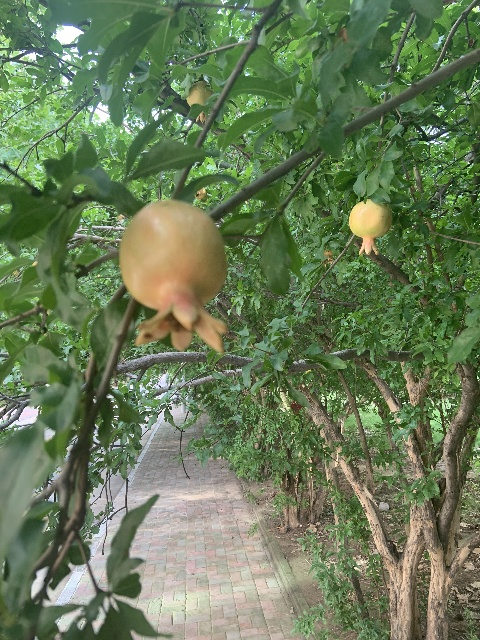mid-growth: (118, 200, 230, 353), (348, 198, 392, 255), (185, 80, 213, 123), (194, 187, 206, 198)
